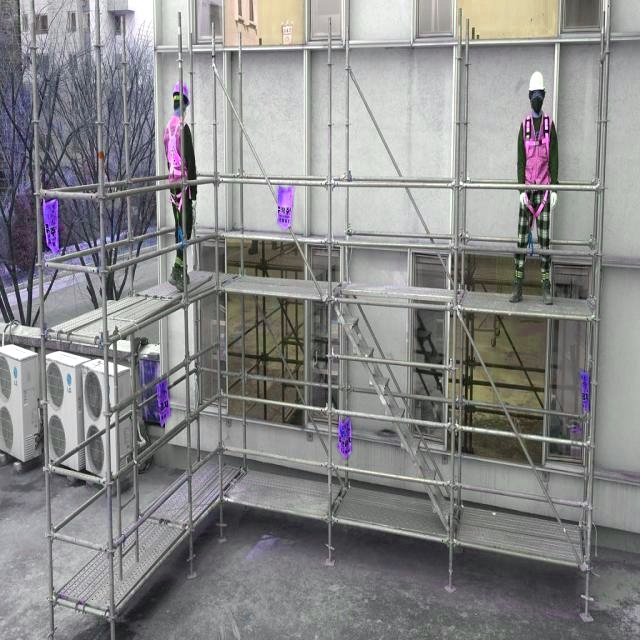safety belt: (163, 115, 225, 231), (517, 122, 562, 229)
